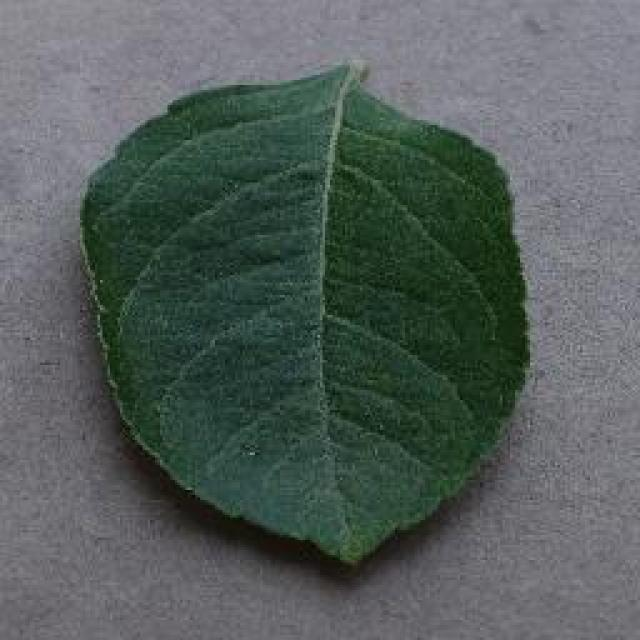apple healthy: (75, 55, 533, 567)
